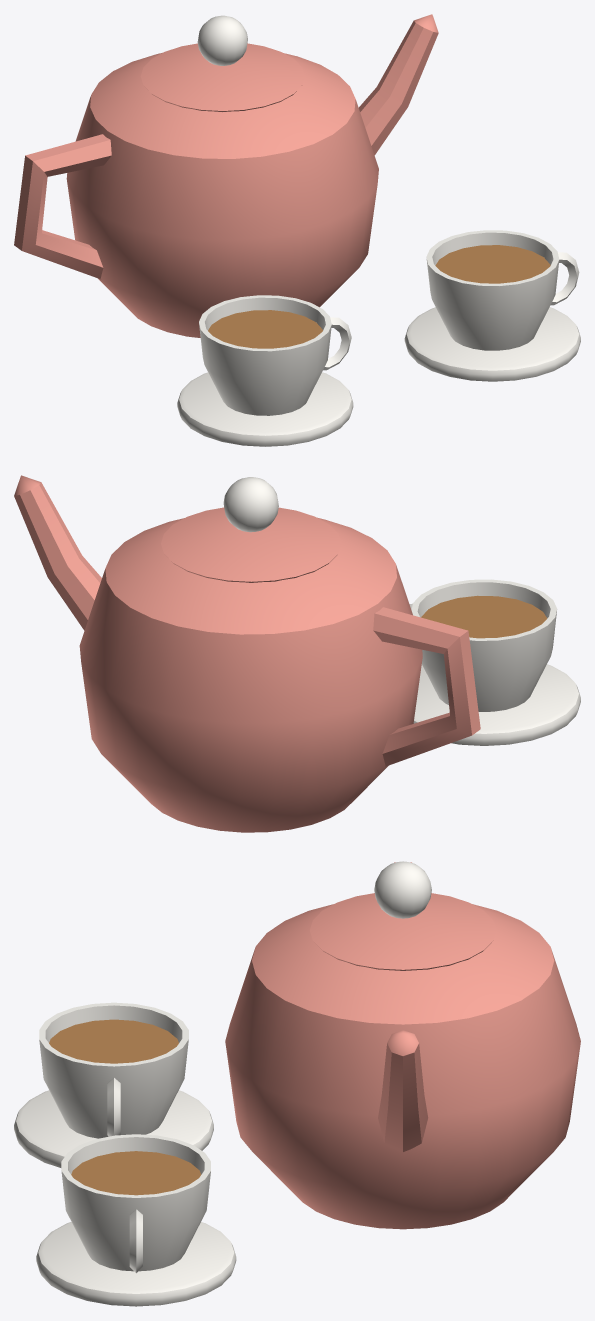
The model's file is tea_set.glb.
3 views of the same model, one above another, from view 1: azimuth 30°, elevation 25°; view 2: azimuth 150°, elevation 25°; view 3: azimuth 270°, elevation 25° (orthographic). The views are drawn at different scales.
Parts seen in each view (by area): view 1: tea_set; view 2: tea_set; view 3: tea_set.
Boxes of the visible parts, x1,y1,x2,y2 form: tea_set: (14, 14, 580, 446); tea_set: (14, 475, 580, 832); tea_set: (14, 861, 580, 1306).
Size of the model in its own units: 0.2619 by 0.158 by 0.255.
